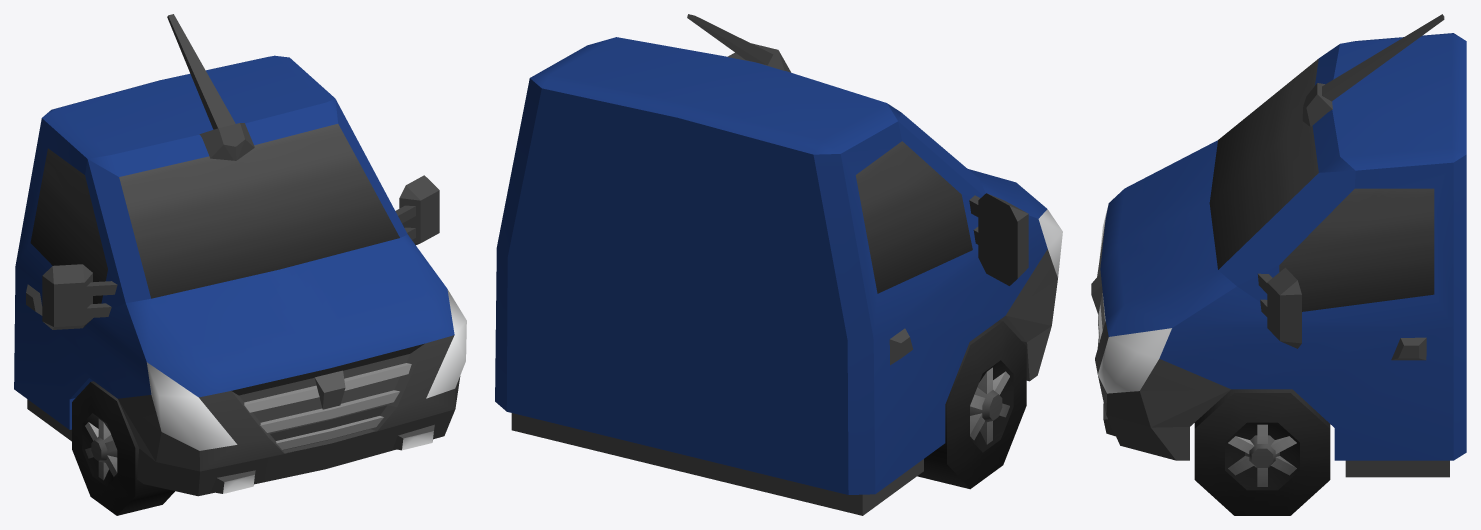
File: head_B_2.fbx
3 views of the same model, side by side, from view 1: azimuth 30°, elevation 25°; view 2: azimuth 150°, elevation 25°; view 3: azimuth 270°, elevation 25° (orthographic). The views are drawn at different scales.
Parts seen in each view (by area): view 1: head_B_2; view 2: head_B_2; view 3: head_B_2.
Part boxes in pixels (bbox=[...]): head_B_2: bbox=[14, 14, 466, 515]; head_B_2: bbox=[495, 14, 1062, 515]; head_B_2: bbox=[1091, 14, 1466, 515].
Bounding box in the file's own units: 1608 × 1556 × 1256.
